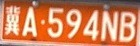A: (22, 7, 37, 37)
